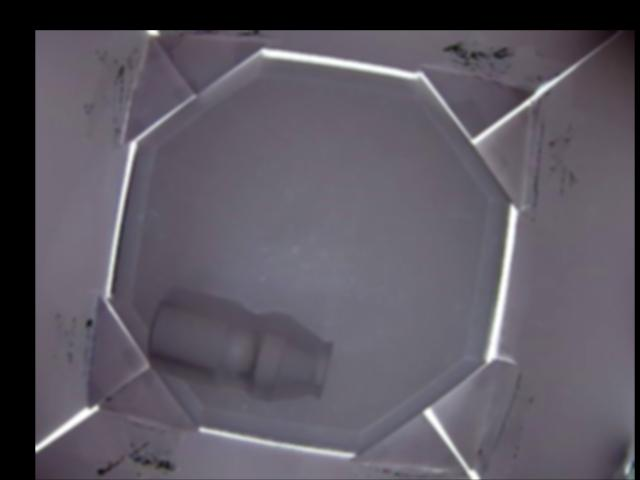Bottle: (143, 284, 335, 397)
